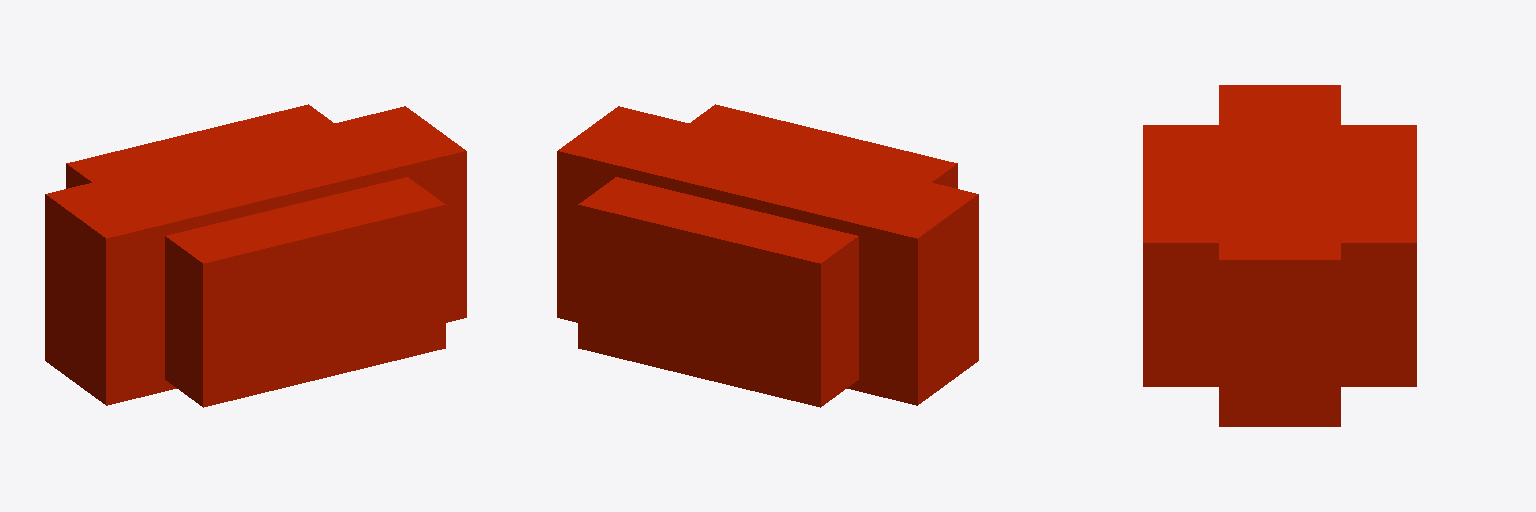
The model's file is LunarLanderDebris.Collision.obj.
3 views of the same model, side by side, from view 1: azimuth 30°, elevation 25°; view 2: azimuth 150°, elevation 25°; view 3: azimuth 270°, elevation 25° (orthographic).
Parts seen in each view (by area): view 1: Debris.BoxShape.004, Debris.BoxShape.003; view 2: Debris.BoxShape.004, Debris.BoxShape.003; view 3: Debris.BoxShape.003, Debris.BoxShape.004.
Boxes of the visible parts, x1=… form: Debris.BoxShape.004: x1=66, y1=104, x2=445, y2=407; Debris.BoxShape.003: x1=45, y1=106, x2=466, y2=405; Debris.BoxShape.004: x1=578, y1=104, x2=957, y2=407; Debris.BoxShape.003: x1=557, y1=106, x2=978, y2=405; Debris.BoxShape.003: x1=1219, y1=85, x2=1340, y2=426; Debris.BoxShape.004: x1=1143, y1=125, x2=1416, y2=386.
Bounding box in the file's own units: 0.9245 × 0.4098 × 0.6091.